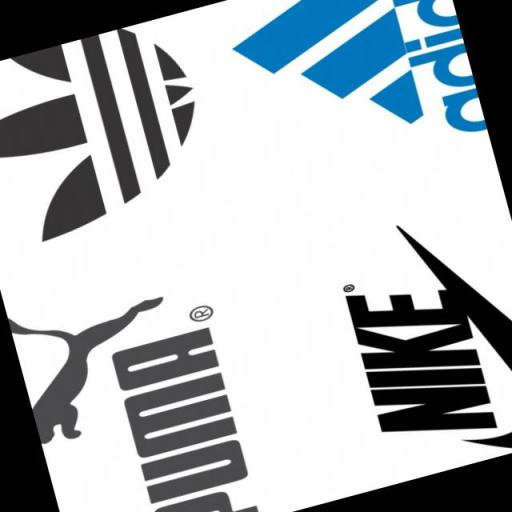Nike: (343, 262, 501, 456), (436, 232, 512, 458)
